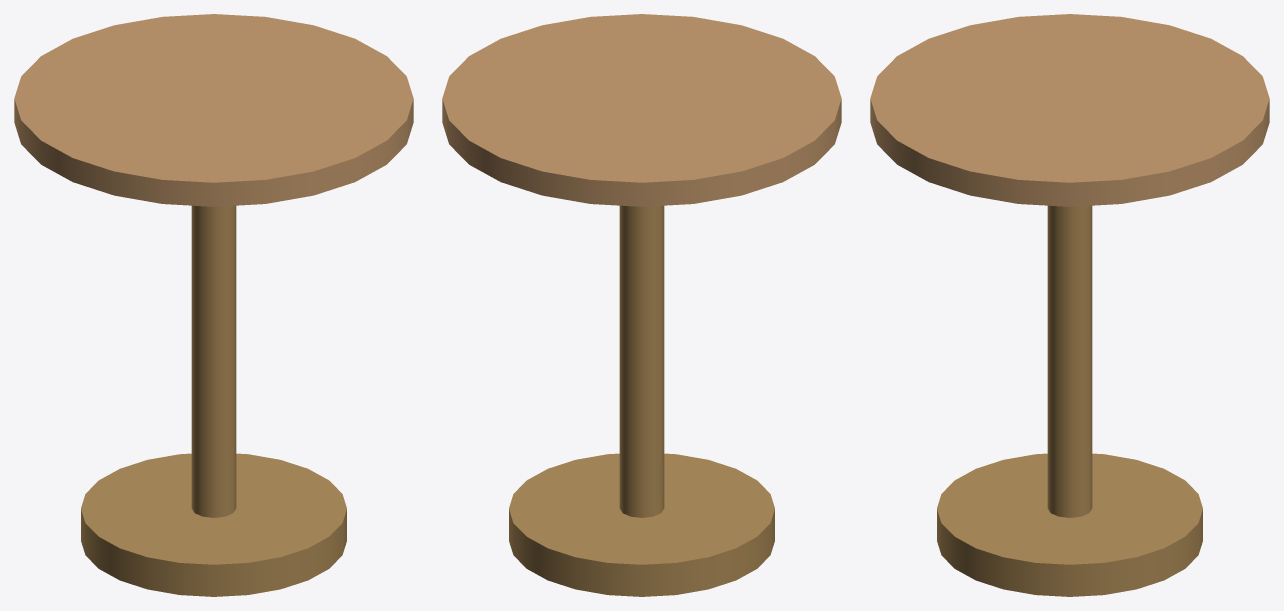
3 renders of one model, left to right at view 1: azimuth 30°, elevation 25°; view 2: azimuth 150°, elevation 25°; view 3: azimuth 270°, elevation 25°, orthographic.
Parts seen in each view (by area): view 1: top, foot, stem; view 2: top, foot, stem; view 3: top, foot, stem.
Boxes of the visible parts, x1,y1,x2,y2 form: top: (14, 14, 413, 206); foot: (81, 453, 346, 596); stem: (191, 205, 236, 517); top: (442, 14, 841, 206); foot: (509, 453, 774, 596); stem: (619, 205, 664, 517); top: (870, 14, 1269, 206); foot: (937, 453, 1202, 596); stem: (1047, 205, 1092, 517).
Size of the model in its own units: 0.45 by 0.55 by 0.45.
